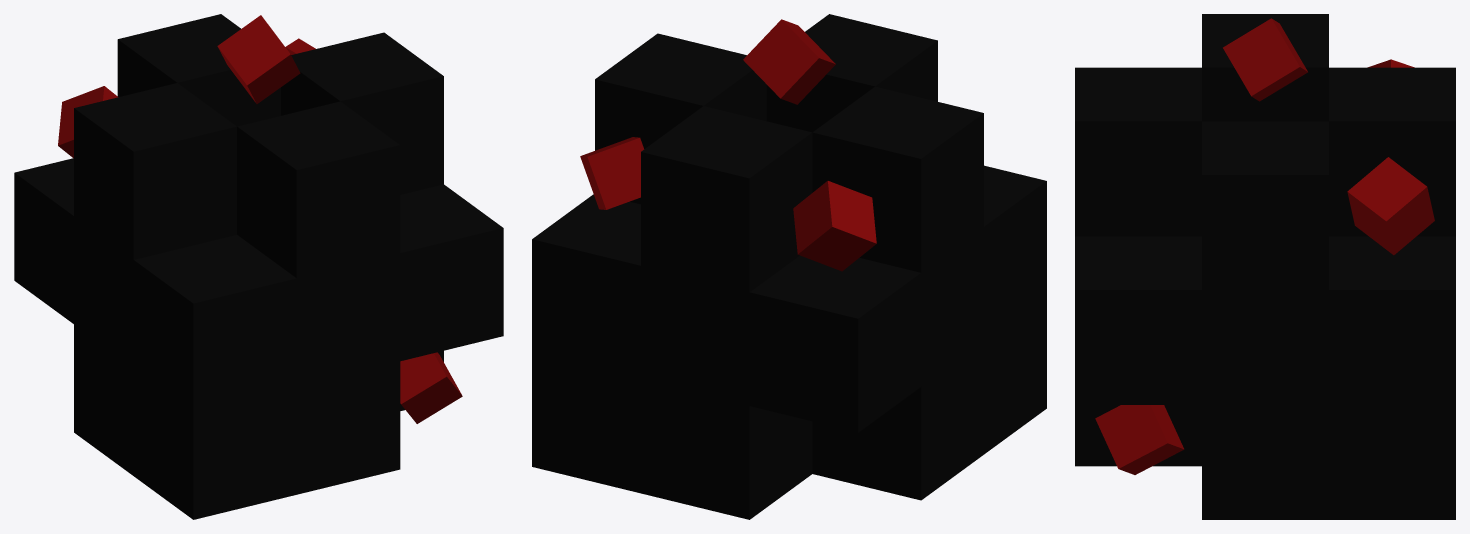
Rendered from skin_8_2_model.fbx.
The picture shows the model from 3 angles, left to right: view 1: azimuth 30°, elevation 25°; view 2: azimuth 150°, elevation 25°; view 3: azimuth 270°, elevation 25°; orthographic projection. The views are drawn at different scales.
Visible parts, largest first — view 1: Cube; view 2: Cube; view 3: Cube.
Part boxes in pixels (x1=…): Cube: x1=14, y1=14, x2=503, y2=519; Cube: x1=532, y1=14, x2=1046, y2=519; Cube: x1=1075, y1=14, x2=1455, y2=519.
Size of the model in its own units: 200 by 246 by 200.
